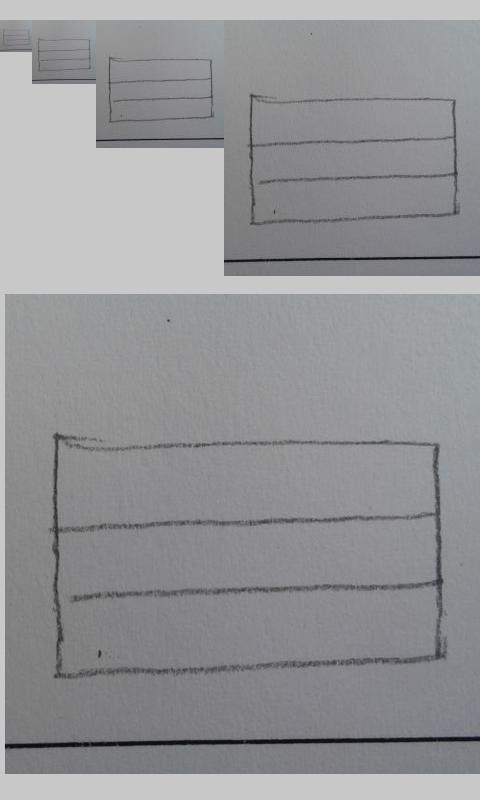list_view: (50, 430, 448, 684), (247, 94, 459, 226), (107, 54, 215, 124), (37, 38, 91, 72), (2, 28, 31, 46)
